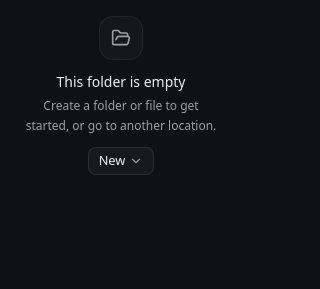
Test: PaneEmpty › offers folders and files together when the pane can create both
The image size is (320, 289).
Later steps or results of the test are not shown.
Click the button "New" at (121, 161), box [88,147,154,175]
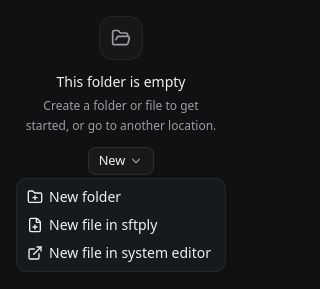
Expected: the menu item "New folder" is shown, [27,187,121,206]
